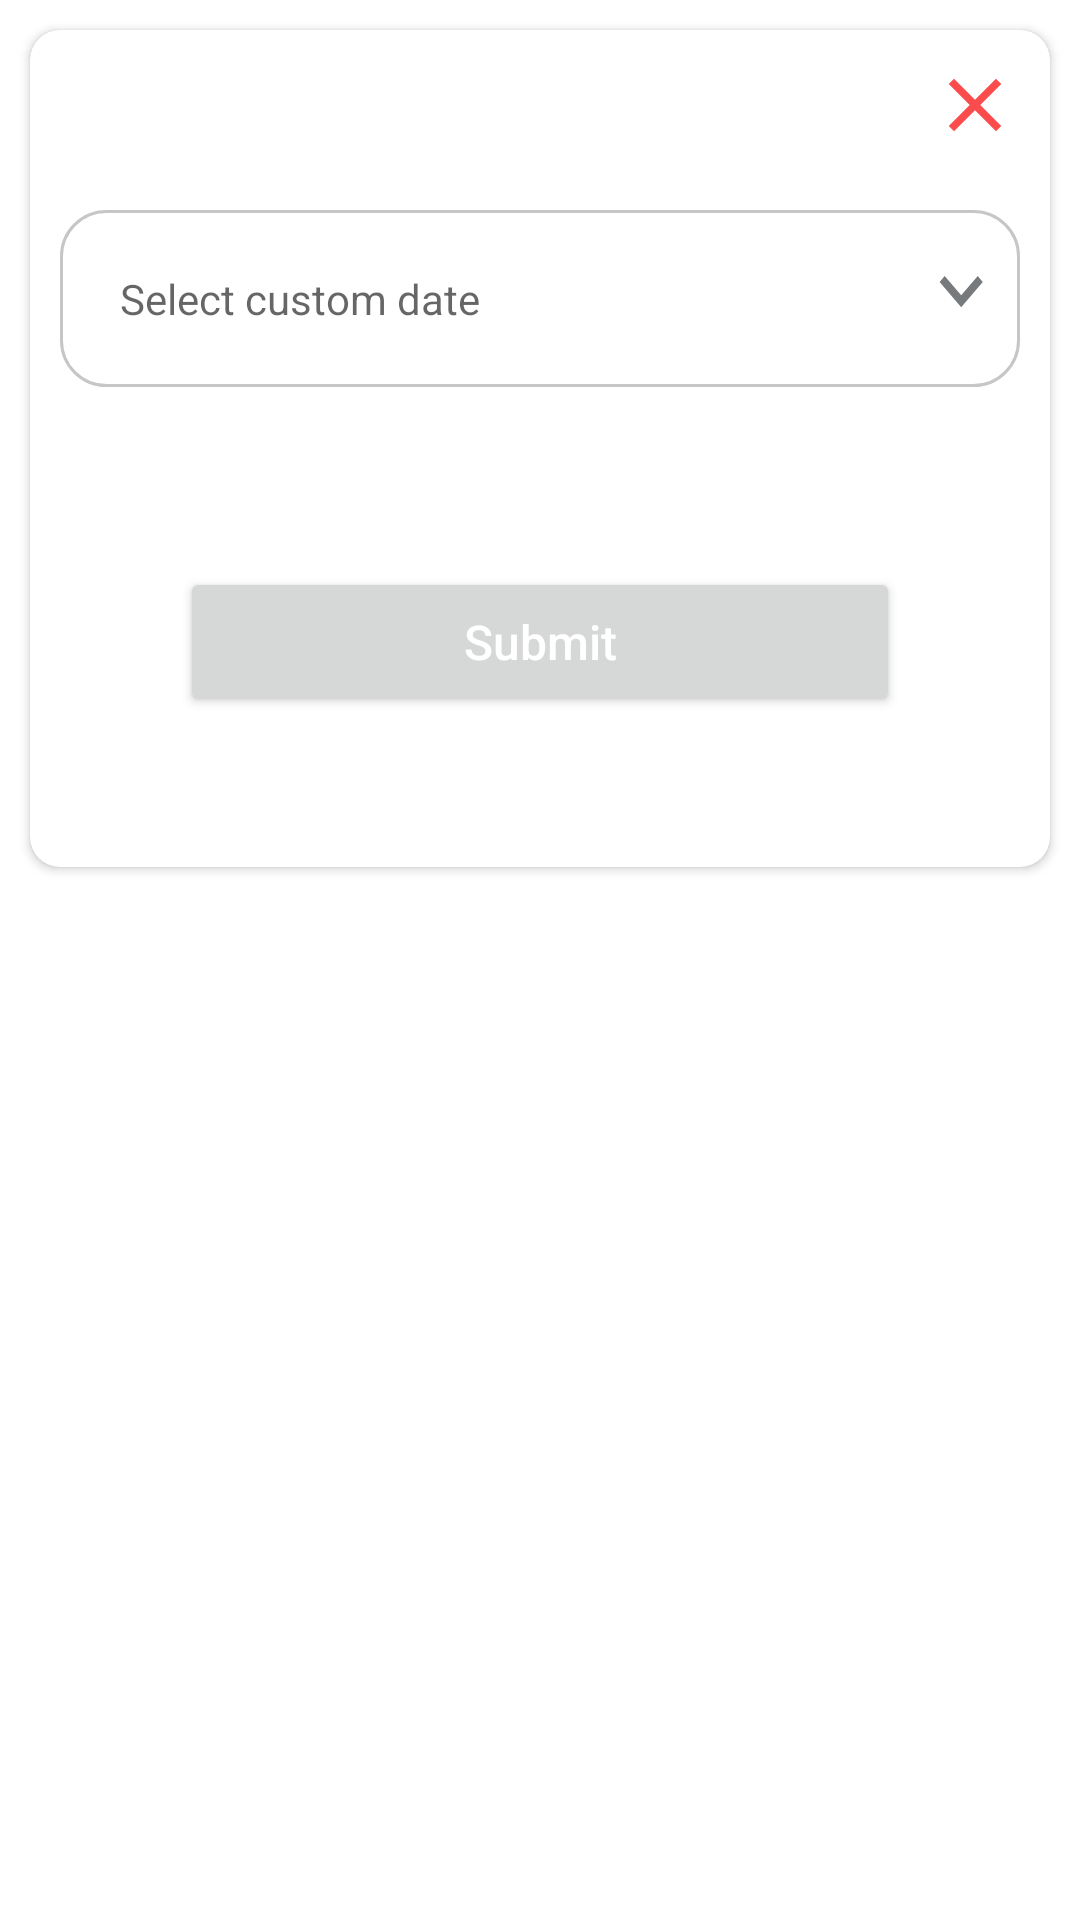

Named icons in this screenshot (1080px×1920px) and their centers, (x=x, y=y):
close: (x=975, y=105)
